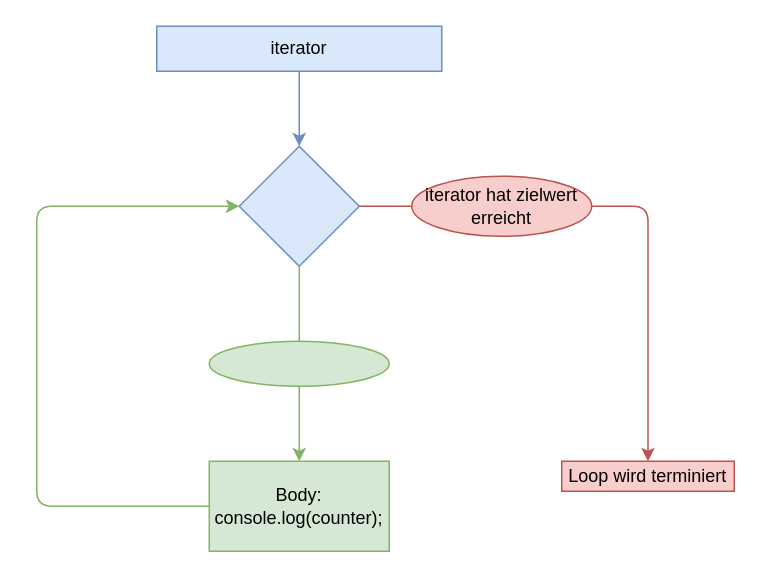
This 761x578 diagram has some shape labels left out. The box of each missing label's shape, as (x1, y1, x2, y2) in pixels:
iterator ist unter zielwert: (208, 340, 389, 386)
Test Condition: (238, 145, 359, 266)
